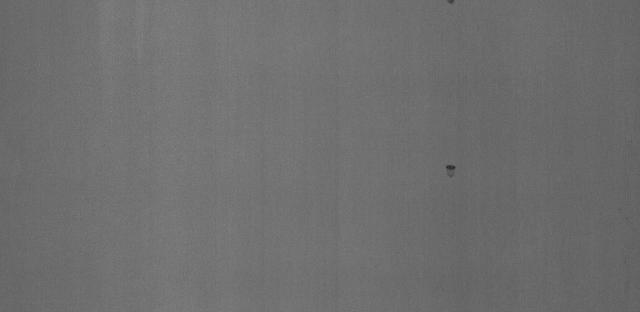inclusion: (444, 162, 458, 181), (444, 0, 458, 5)
